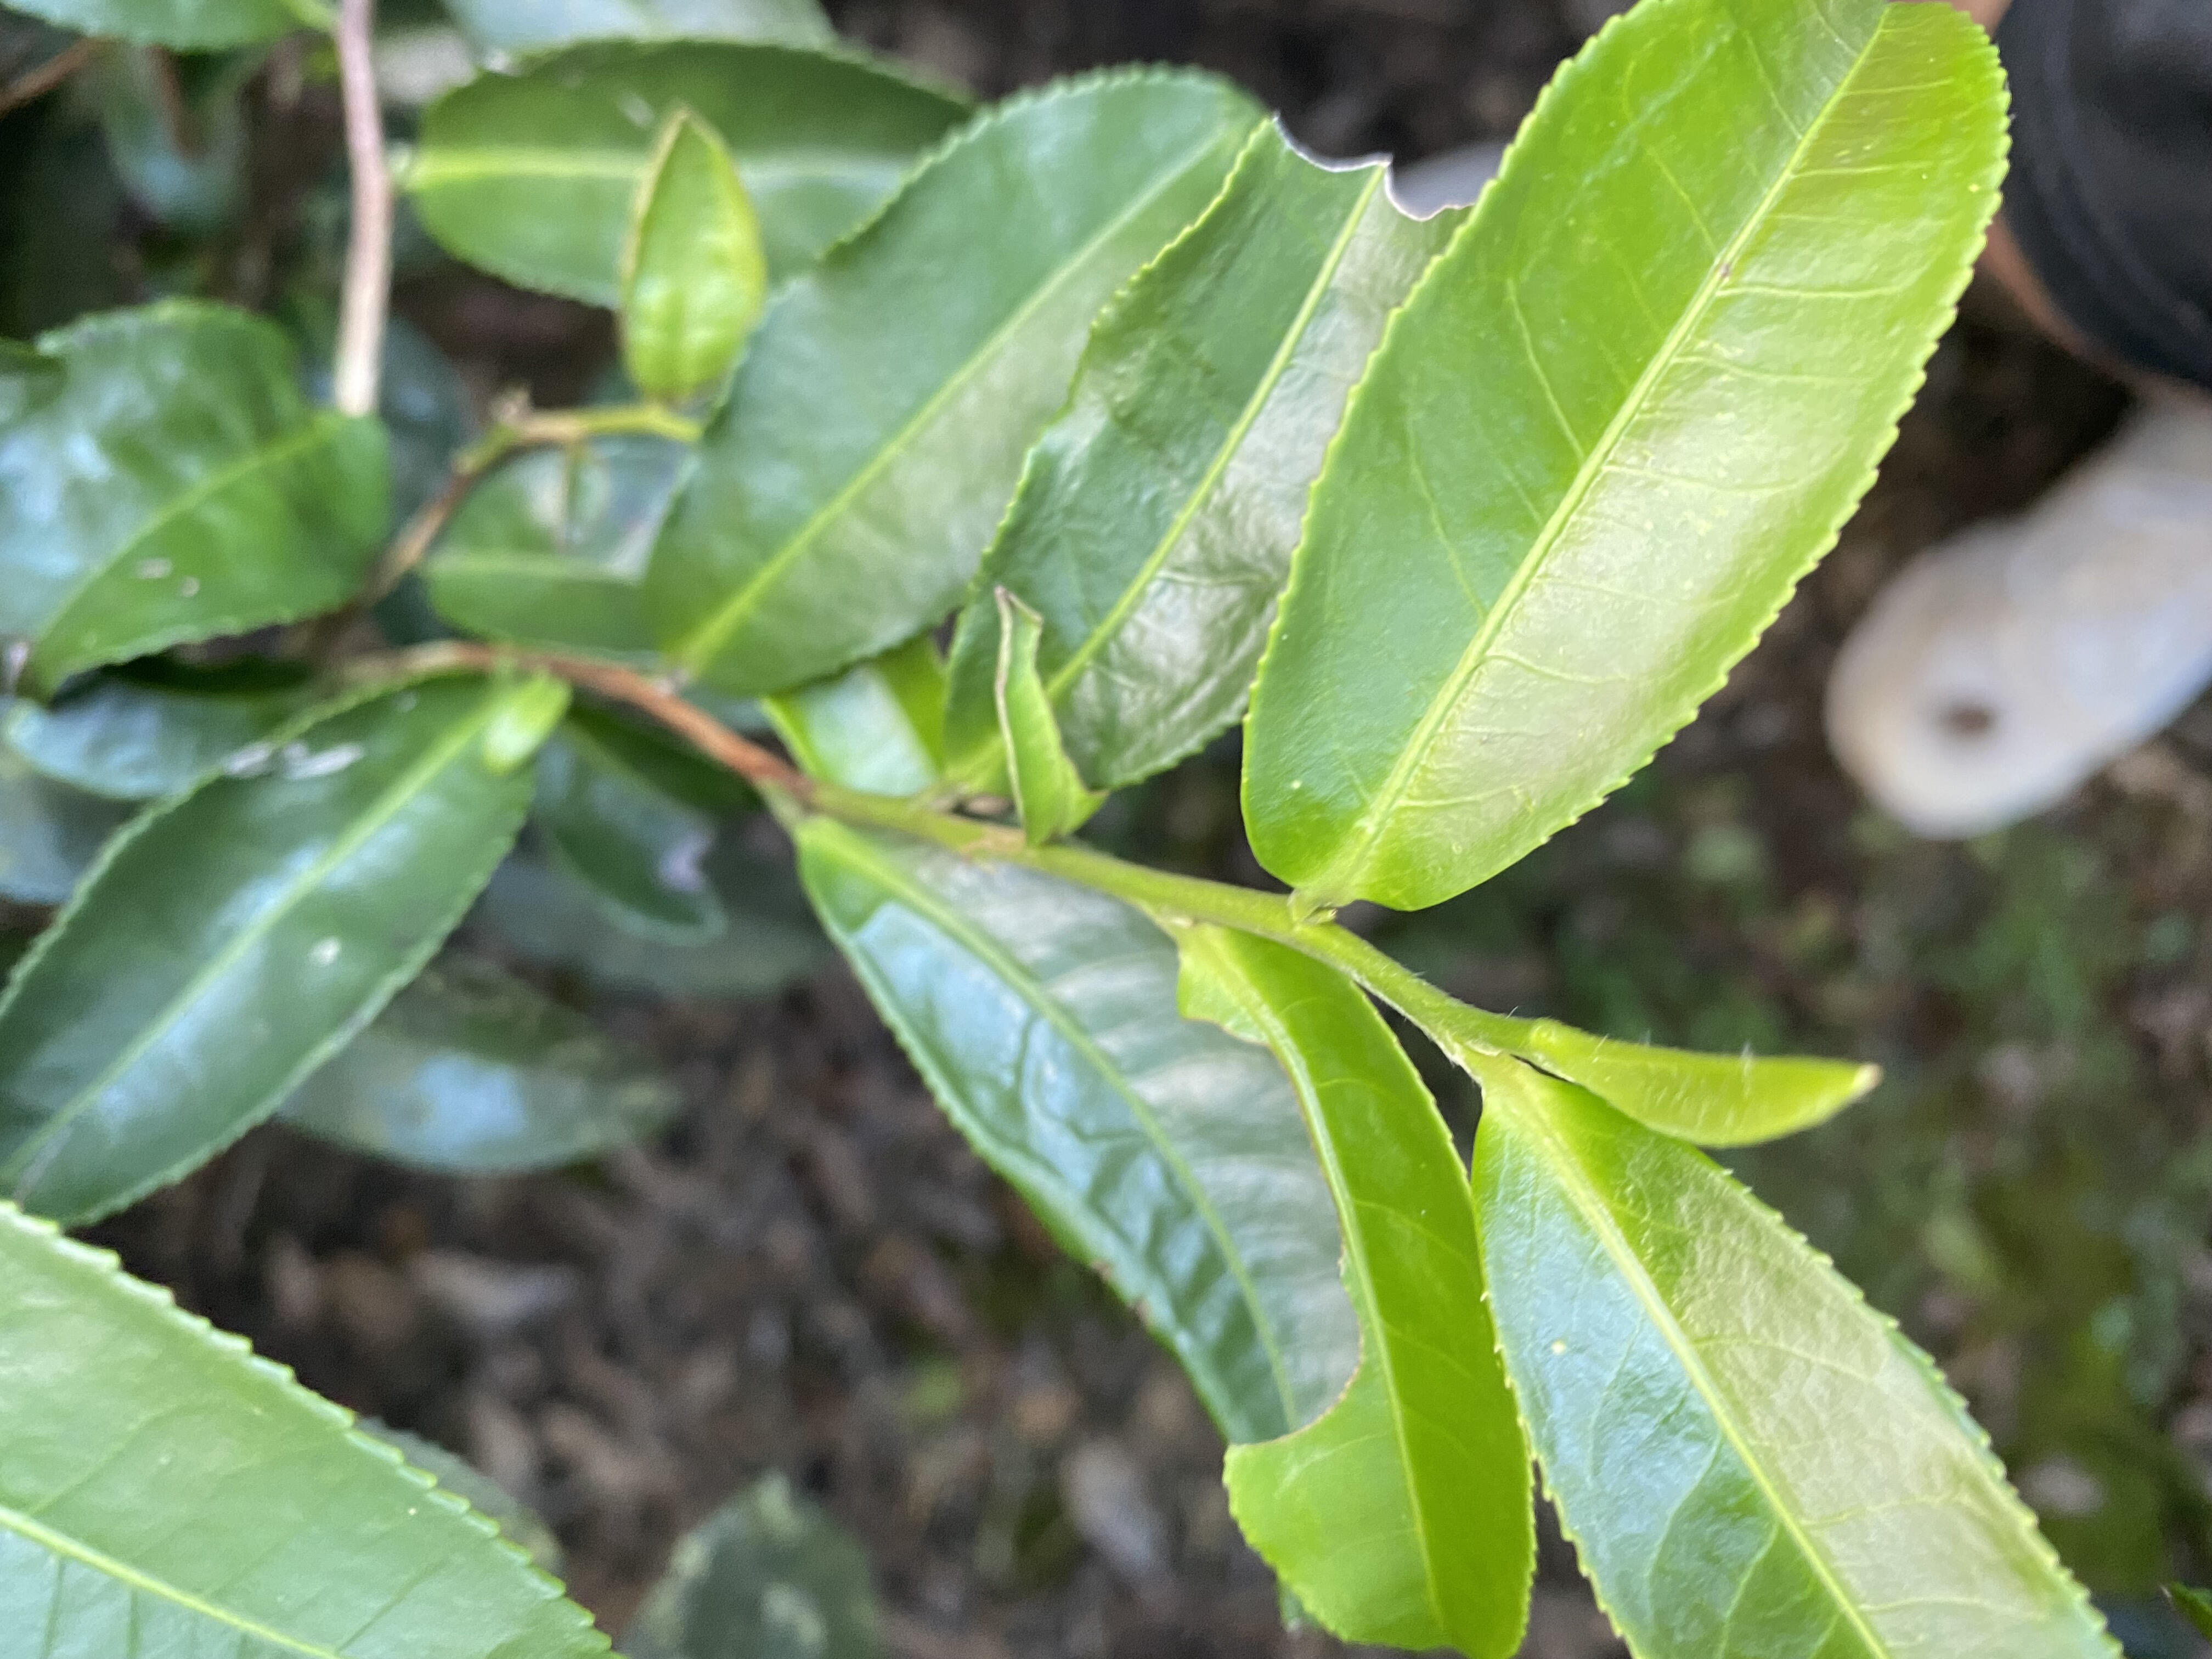chihuo_high: (1170, 922, 1540, 1657)
chihuo_low: (935, 115, 1474, 821)
healthy: (1240, 3, 2015, 911), (1470, 1077, 2127, 1657)
